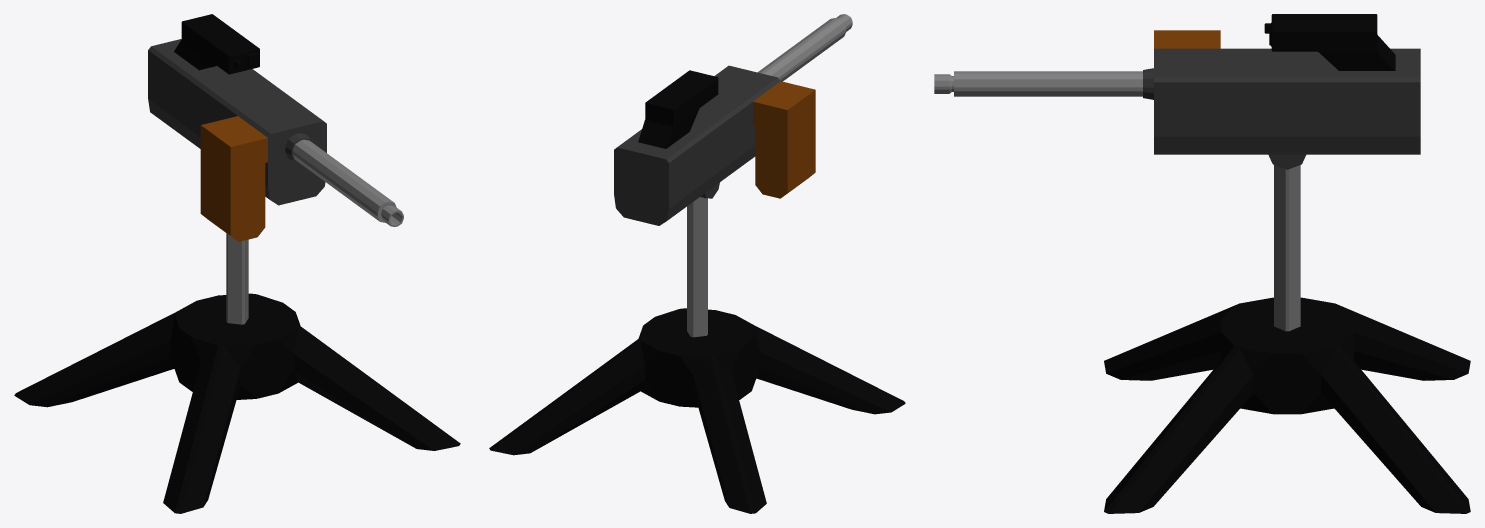
The model's file is Auto_Turret.fbx.
3 renders of one model, left to right at view 1: azimuth 30°, elevation 25°; view 2: azimuth 150°, elevation 25°; view 3: azimuth 270°, elevation 25°, orthographic. The views are drawn at different scales.
Visible parts, largest first — view 1: Stand, Body, Barrel; view 2: Stand, Body, Barrel; view 3: Stand, Body, Barrel.
Part boxes in pixels (box(x1,y1,x2,y2)): Stand: box(14, 233, 460, 513); Body: box(148, 14, 326, 241); Barrel: box(292, 139, 403, 226); Stand: box(489, 197, 905, 513); Body: box(614, 65, 815, 225); Barrel: box(757, 14, 852, 81); Stand: box(1104, 165, 1470, 513); Body: box(1143, 14, 1420, 169); Barrel: box(934, 71, 1142, 96).
Bounding box in the file's own units: 165 × 206 × 242.
